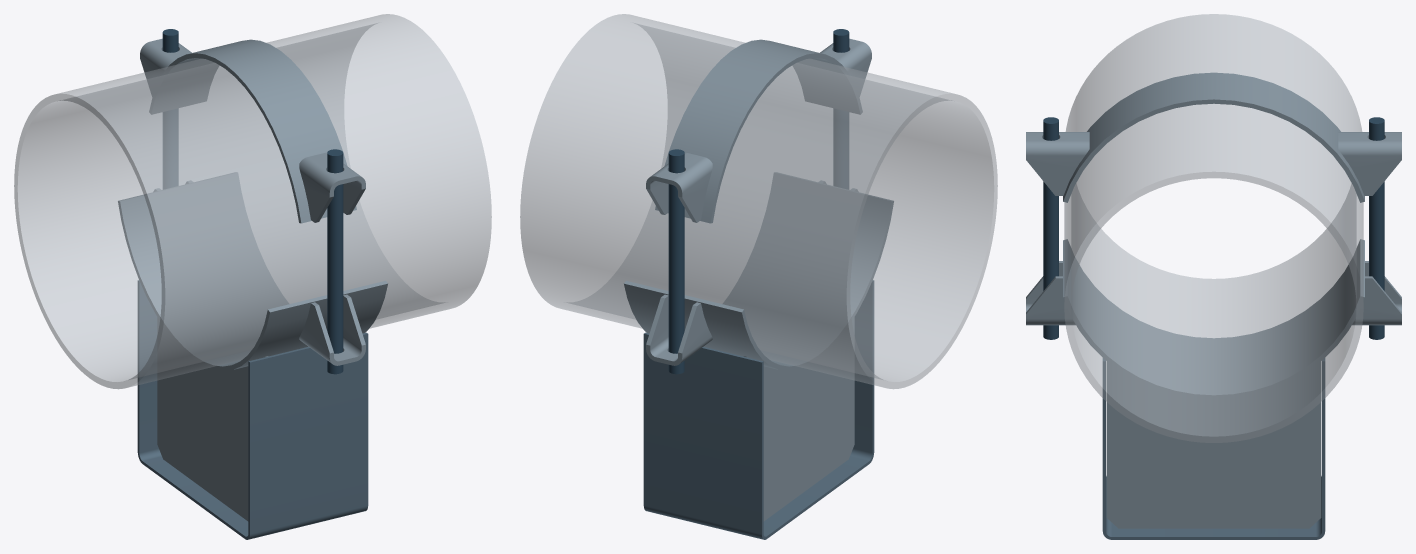
File: TS-627.00.000-002-opora-dn377-H200-L170.glb
3 renders of one model, left to right at view 1: azimuth 30°, elevation 25°; view 2: azimuth 150°, elevation 25°; view 3: azimuth 270°, elevation 25°, orthographic.
Parts seen in each view (by area): view 1: truba, skoba_0, podushka_3, rebro4_1, bugel0_podushka_0, shpilka_0_-1, bugel0_ushko_2, ushko_5, shpilka_0_1, bugel0_ushko_1; view 2: truba, skoba_0, podushka_3, rebro4_1, bugel0_podushka_0, shpilka_0_1, bugel0_ushko_1, ushko_4, shpilka_0_-1, bugel0_ushko_2; view 3: truba, rebro4_2, podushka_3, bugel0_podushka_0, skoba_0, bugel0_ushko_1, bugel0_ushko_2, shpilka_0_1, shpilka_0_-1, ushko_4, ushko_5.
Boxes of the visible parts, x1,y1,x2,y2 form: truba: [14, 14, 491, 389]; skoba_0: [137, 280, 368, 539]; podushka_3: [118, 172, 387, 371]; rebro4_1: [157, 317, 268, 521]; bugel0_podushka_0: [149, 39, 356, 223]; shpilka_0_-1: [327, 149, 343, 374]; bugel0_ushko_2: [299, 152, 365, 222]; ushko_5: [299, 294, 365, 365]; shpilka_0_1: [162, 29, 178, 189]; bugel0_ushko_1: [140, 38, 191, 96]; truba: [520, 14, 997, 389]; skoba_0: [643, 280, 874, 539]; podushka_3: [624, 172, 893, 371]; rebro4_1: [743, 317, 854, 521]; bugel0_podushka_0: [655, 39, 862, 223]; shpilka_0_1: [668, 149, 684, 374]; bugel0_ushko_1: [646, 152, 712, 222]; ushko_4: [646, 294, 712, 365]; shpilka_0_-1: [833, 29, 849, 189]; bugel0_ushko_2: [820, 38, 871, 96]; truba: [1064, 14, 1363, 442]; rebro4_2: [1106, 361, 1321, 528]; podushka_3: [1063, 239, 1364, 399]; bugel0_podushka_0: [1063, 72, 1364, 202]; skoba_0: [1102, 358, 1325, 539]; bugel0_ushko_1: [1338, 132, 1401, 195]; bugel0_ushko_2: [1026, 132, 1089, 195]; shpilka_0_1: [1369, 117, 1384, 339]; shpilka_0_-1: [1043, 117, 1058, 339]; ushko_4: [1352, 261, 1401, 325]; ushko_5: [1026, 261, 1075, 325].
Size of the model in its own units: 470 by 591 by 473.
